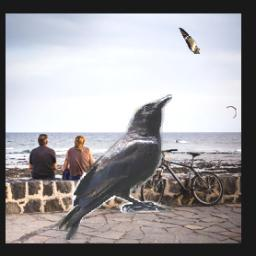Crow: (56, 94, 172, 240)
Swallow: (178, 27, 200, 54)
